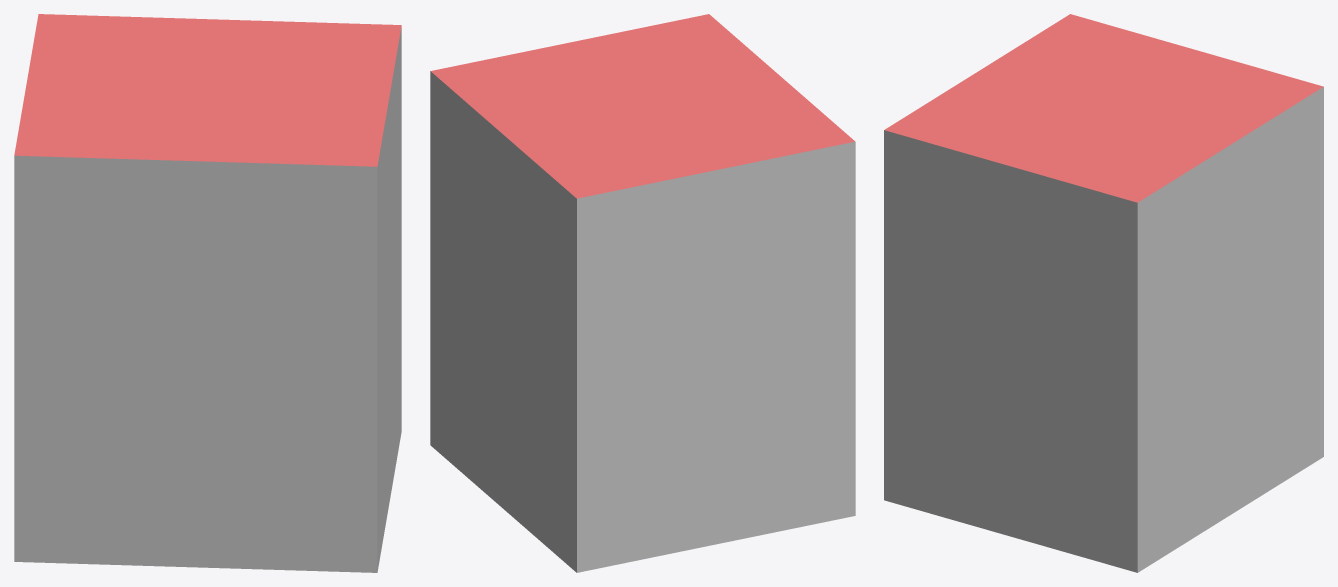
The model's file is ID_b22c0b31-cd13-4a8d-acf3-421135b6e45c.gltf.
3 renders of one model, left to right at view 1: azimuth 30°, elevation 25°; view 2: azimuth 150°, elevation 25°; view 3: azimuth 270°, elevation 25°, orthographic. The views are drawn at different scales.
Parts seen in each view (by area): view 1: Z_UP; view 2: Z_UP; view 3: Z_UP.
Part boxes in pixels (x1,y1,x2,y2): Z_UP: (14, 14, 401, 572); Z_UP: (430, 14, 855, 572); Z_UP: (884, 14, 1323, 572).
Bounding box in the file's own units: 17.49 × 16 × 17.23.
